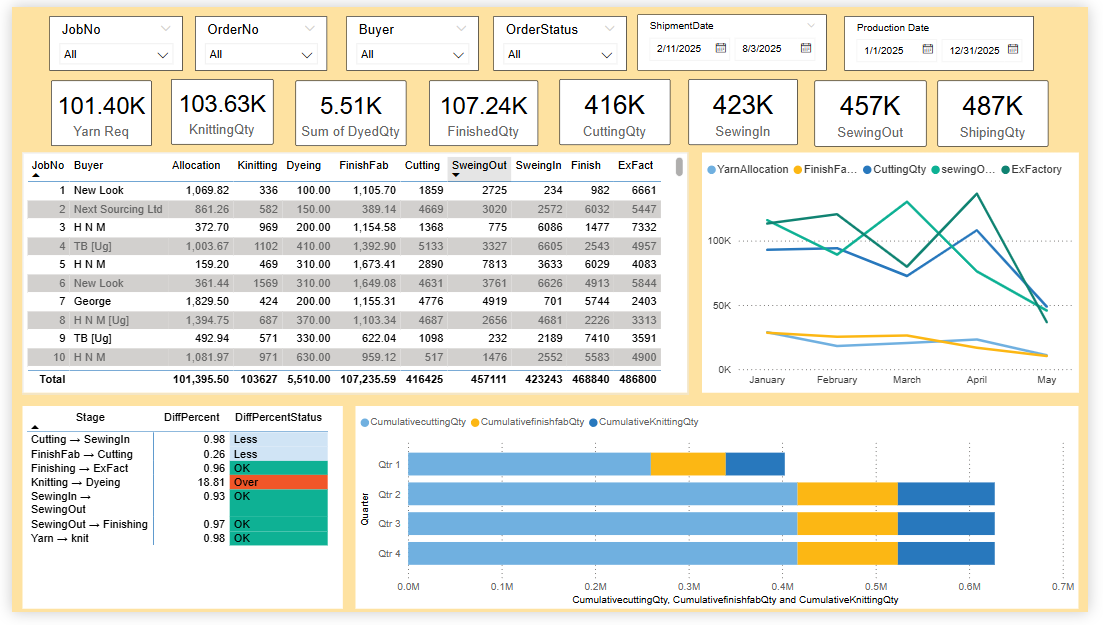

Layout of this report page (visuals, bound fields, positions):
{"tool":"powerbi","page":{"name":"Page 1","canvas":[1280,720],"ordinal":0},"visuals":[{"type":"slicer","fields":{"Values":["orders.JobNo"]},"box":[45.4,10.6,159,65.1],"z":0},{"type":"slicer","fields":{"Values":["orders.OrderNo"]},"box":[218,10.6,157.5,65.1],"z":1000},{"type":"slicer","fields":{"Values":["orders.Buyer"]},"box":[398.2,10.6,157.5,65.1],"z":2000},{"type":"slicer","fields":{"Values":["orders.OrderStatus"]},"box":[572.4,10.6,159,65.1],"z":3000},{"type":"slicer","fields":{"Values":["Date.Date"]},"box":[990.3,10.6,225.6,65.1],"z":4000},{"type":"card","fields":{"Values":["knitting.GreyFabricQty"]},"box":[190,86,122,78],"z":5000},{"type":"card","fields":{"Values":["dyeingproduction.DyedQty"]},"box":[338,88,132,78],"z":6000},{"type":"card","fields":{"Values":["finishfabric.FinishedQty"]},"box":[496,88,130,78],"z":7000},{"type":"card","fields":{"Values":["cutting.PiecesCut"]},"box":[652.6,86.3,131.7,78.7],"z":8000},{"type":"card","fields":{"Values":["sewinginput.PiecesIn"]},"box":[805.6,86.3,130.2,78.7],"z":9000},{"type":"card","fields":{"Values":["sewingoutput.PiecesOut"]},"box":[955.5,87.8,133.3,78.7],"z":10000},{"type":"card","fields":{"Values":["delivery.DeliveredQty"]},"box":[1102.3,87.8,131.7,78.7],"z":11000},{"type":"card","fields":{"Values":["yarnallocation.Quantity"]},"box":[46,88,120,78],"z":12000},{"type":"tableEx","fields":{"Values":["orders.JobNo","orders.Buyer","yarnallocation.Quantity","knitting.GreyFabricQty","dyeingproduction.DyedQty","finishfabric.FinishedQty","cutting.PiecesCut","sewingoutput.PiecesOut","sewinginput.PiecesIn","packing.PackedQty","delivery.DeliveredQty"]},"box":[13.1,174.1,791.7,285.8],"z":13000},{"type":"slicer","fields":{"Values":["orders.ShipmentDate"]},"box":[745,9.1,225.6,66.6],"z":14000},{"type":"lineChart","fields":{"Y":["KeyMeasure.YarnAllocation","KeyMeasure.FinishFabQty","KeyMeasure.CuttingQty","KeyMeasure.sewingOutput","KeyMeasure.ExFactory"],"Category":["ProductionDate.Date.Variation.Date Hierarchy.Year","ProductionDate.Date.Variation.Date Hierarchy.Quarter","ProductionDate.Date.Variation.Date Hierarchy.Month","ProductionDate.Date.Variation.Date Hierarchy.Day"]},"box":[821.2,174.1,448.4,285.8],"z":15000},{"type":"barChart","fields":{"Y":["KeyMeasure.CumulativecuttingQty","KeyMeasure.CumulativefinishfabQty","KeyMeasure.CumulativeKnittingQty"],"Category":["ProductionDate.Date.Variation.Date Hierarchy.Year","ProductionDate.Date.Variation.Date Hierarchy.Quarter","ProductionDate.Date.Variation.Date Hierarchy.Month","ProductionDate.Date.Variation.Date Hierarchy.Day"]},"box":[409,474.7,860.6,241.4],"z":16000},{"type":"pivotTable","fields":{"Rows":["StageFlowTable.Stage"],"Values":["KeyMeasure.DiffPercent","KeyMeasure.DiffPercentStatus"]},"box":[13.1,474.7,381,241.4],"z":17000}]}

Visuals, with their boxes in screenshot pixels (x1, y1, x2, y2), scaled from the page's 1280x720 canvas onto the 1103x625 screenshot:
slicer - orders.JobNo: (left=39, top=9, right=176, bottom=66)
slicer - orders.OrderNo: (left=188, top=9, right=324, bottom=66)
slicer - orders.Buyer: (left=343, top=9, right=479, bottom=66)
slicer - orders.OrderStatus: (left=493, top=9, right=630, bottom=66)
slicer - Date.Date: (left=853, top=9, right=1048, bottom=66)
card - knitting.GreyFabricQty: (left=164, top=75, right=269, bottom=142)
card - dyeingproduction.DyedQty: (left=291, top=76, right=405, bottom=144)
card - finishfabric.FinishedQty: (left=427, top=76, right=539, bottom=144)
card - cutting.PiecesCut: (left=562, top=75, right=676, bottom=143)
card - sewinginput.PiecesIn: (left=694, top=75, right=806, bottom=143)
card - sewingoutput.PiecesOut: (left=823, top=76, right=938, bottom=145)
card - delivery.DeliveredQty: (left=950, top=76, right=1063, bottom=145)
card - yarnallocation.Quantity: (left=40, top=76, right=143, bottom=144)
tableEx - orders.JobNo x orders.Buyer: (left=11, top=151, right=694, bottom=399)
slicer - orders.ShipmentDate: (left=642, top=8, right=836, bottom=66)
lineChart - KeyMeasure.YarnAllocation x KeyMeasure.FinishFabQty: (left=708, top=151, right=1094, bottom=399)
barChart - KeyMeasure.CumulativecuttingQty x KeyMeasure.CumulativefinishfabQty: (left=352, top=412, right=1094, bottom=622)
pivotTable - StageFlowTable.Stage x KeyMeasure.DiffPercent: (left=11, top=412, right=340, bottom=622)
